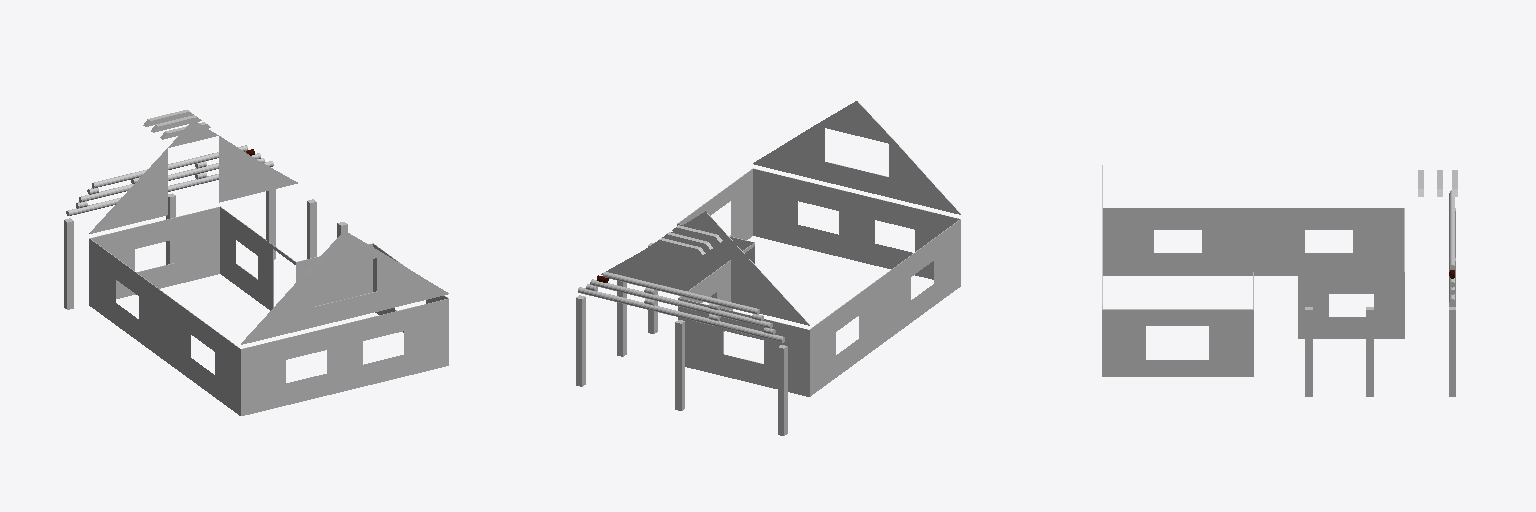
The model's file is CP_ParedesMadera.obj.
3 views of the same model, side by side, from view 1: azimuth 30°, elevation 25°; view 2: azimuth 150°, elevation 25°; view 3: azimuth 270°, elevation 25° (orthographic).
Parts seen in each view (by area): view 1: Cube.001_Cube.002, Cube.003_Cube.004, Cube.010_Cube.016, Cube.009_Cube.015, Cube.002_Cube.003, Cube.005_Cube.006, Cube.004_Cube.005, Cube.014_Cube.020, Cube.030_Cube.036, Cylinder.016_Cylinder.017, Cylinder.012_Cylinder.013, Cylinder.014_Cylinder.015 (+2 smaller); view 2: Cube.001_Cube.002, Cube.003_Cube.004, Cube.010_Cube.016, Cube.002_Cube.003, Cube.009_Cube.015, Cube_Cube.001, Cube.004_Cube.005, Cylinder.012_Cylinder.013, Cylinder.014_Cylinder.015, Cube.005_Cube.006, Cube.030_Cube.036, Cylinder.016_Cylinder.017 (+4 smaller); view 3: Cube.003_Cube.004, Cube_Cube.001, Cube.005_Cube.006, Cube.011_Cube.017, Cube.012_Cube.018, Cube.013_Cube.019.
Boxes of the visible parts, x1,y1,x2,y2 form: Cube.001_Cube.002: [241, 299, 448, 415]; Cube.003_Cube.004: [89, 238, 240, 415]; Cube.010_Cube.016: [241, 230, 448, 344]; Cube.009_Cube.015: [89, 120, 297, 233]; Cube.002_Cube.003: [90, 207, 219, 298]; Cube.005_Cube.006: [220, 206, 295, 310]; Cube.004_Cube.005: [296, 243, 372, 306]; Cube.014_Cube.020: [64, 218, 73, 309]; Cube.030_Cube.036: [143, 110, 210, 139]; Cylinder.016_Cylinder.017: [92, 145, 247, 188]; Cylinder.012_Cylinder.013: [66, 161, 273, 215]; Cylinder.014_Cylinder.015: [79, 153, 260, 202]; Cube.001_Cube.002: [753, 168, 959, 279]; Cube.003_Cube.004: [810, 219, 960, 396]; Cube.010_Cube.016: [753, 101, 960, 214]; Cube.002_Cube.003: [678, 298, 809, 396]; Cube.009_Cube.015: [601, 211, 809, 325]; Cube_Cube.001: [677, 169, 752, 239]; Cube.004_Cube.005: [677, 224, 754, 297]; Cylinder.012_Cylinder.013: [578, 287, 784, 342]; Cylinder.014_Cylinder.015: [590, 279, 772, 328]; Cube.005_Cube.006: [679, 243, 754, 331]; Cube.030_Cube.036: [654, 225, 722, 254]; Cylinder.016_Cylinder.017: [603, 272, 759, 314]; Cube.003_Cube.004: [1103, 208, 1403, 275]; Cube_Cube.001: [1102, 309, 1253, 376]; Cube.005_Cube.006: [1254, 272, 1404, 338]; Cube.011_Cube.017: [1305, 307, 1312, 396]; Cube.012_Cube.018: [1366, 307, 1373, 396]; Cube.013_Cube.019: [1449, 307, 1455, 396].
Bounding box in the file's own units: 8.89 × 7.38 × 13.16.